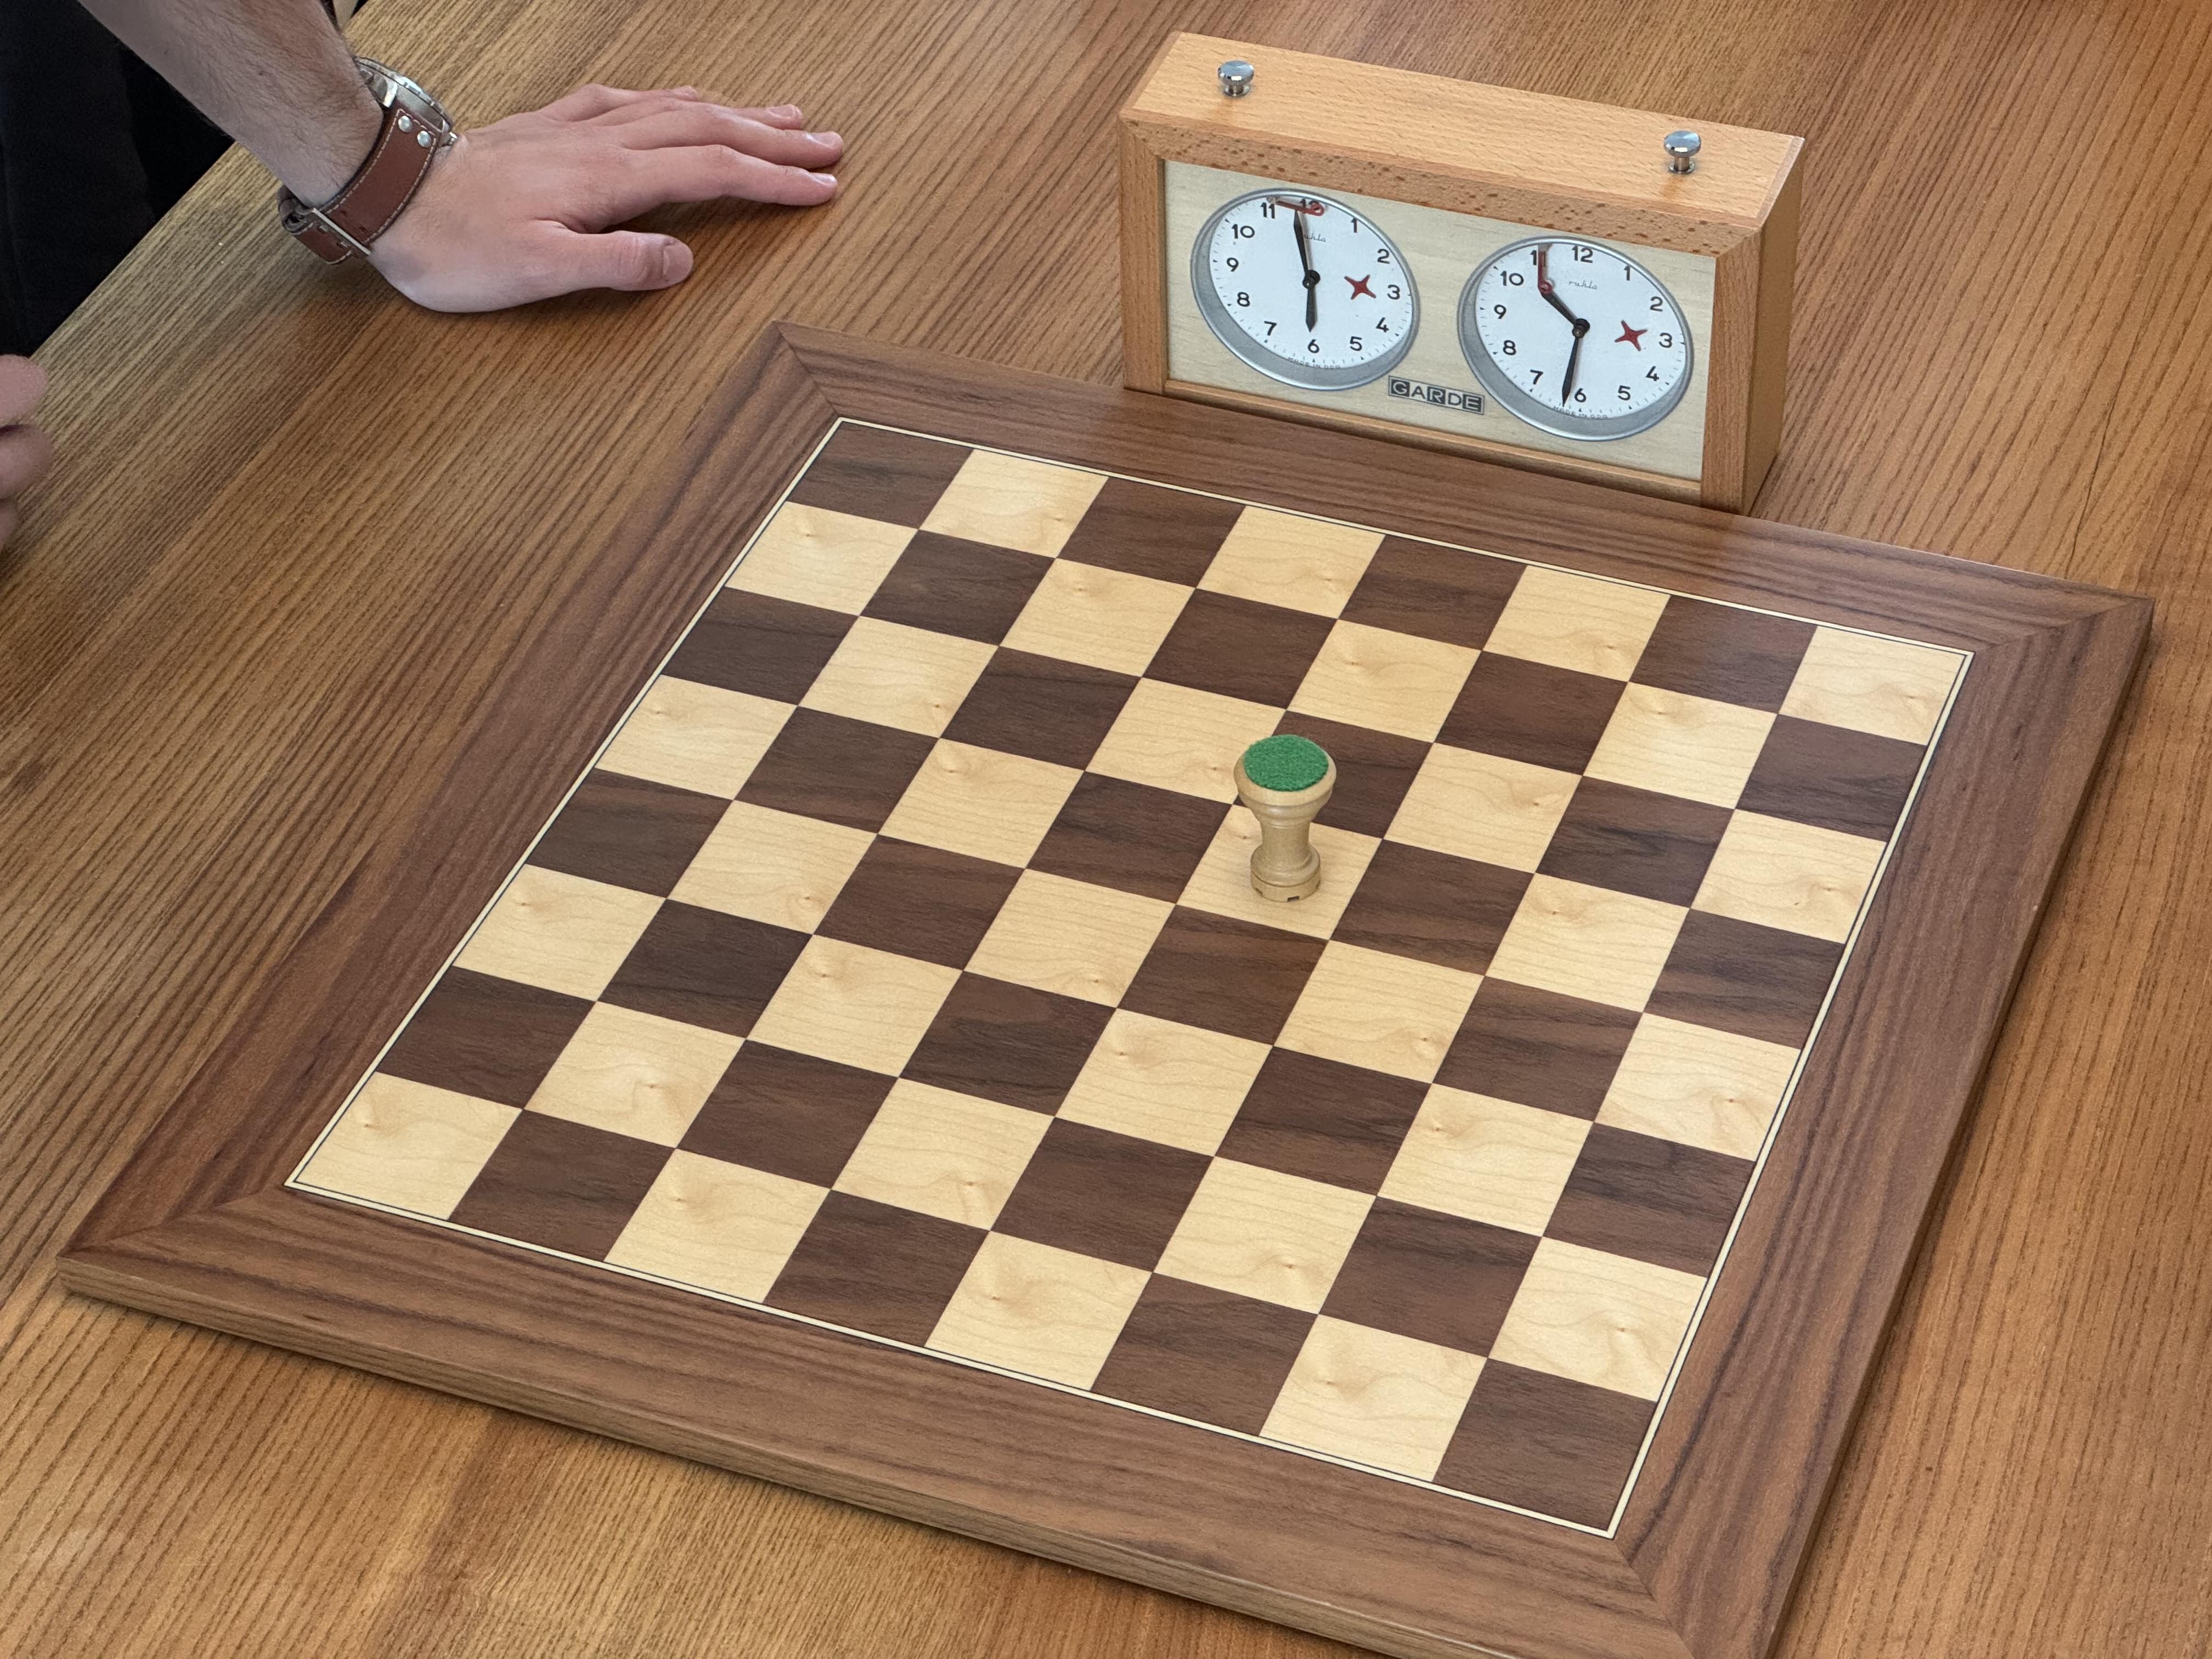White Extra Queen: (1228, 731, 1343, 907)
